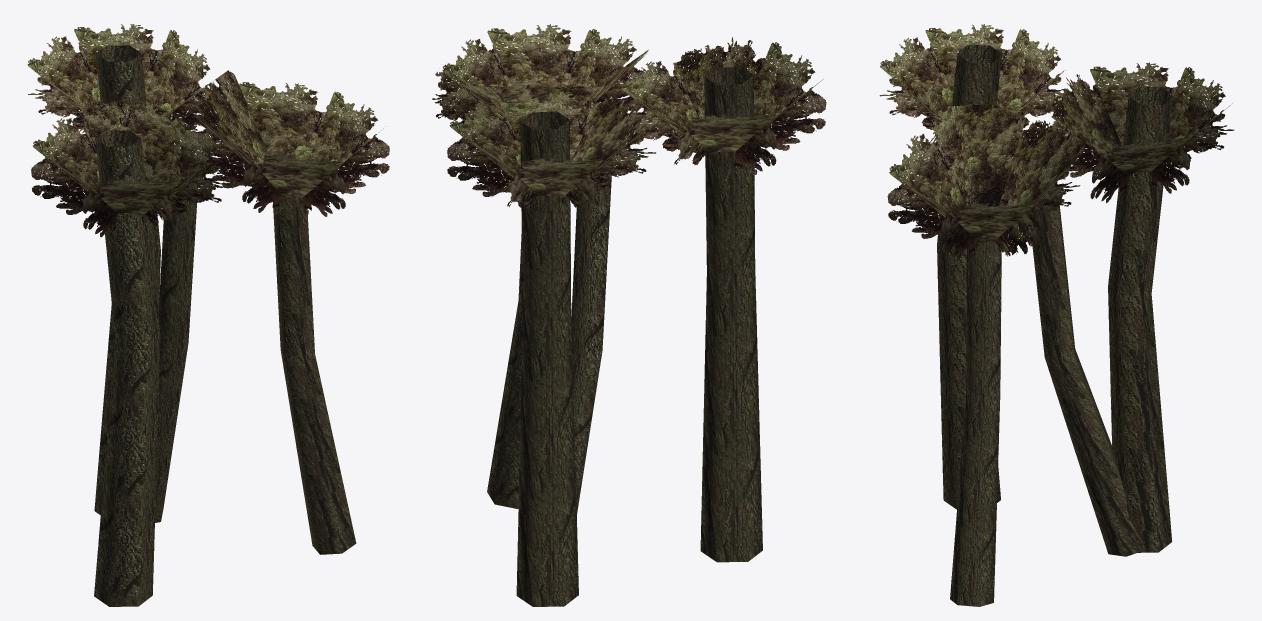
File: OW_FOREST_TREE_V5.glb
The picture shows the model from 3 angles, left to right: view 1: azimuth 30°, elevation 25°; view 2: azimuth 150°, elevation 25°; view 3: azimuth 270°, elevation 25°; orthographic projection. The views are drawn at different scales.
Parts seen in each view (by area): view 1: Mesh; view 2: Mesh; view 3: Mesh.
Part boxes in pixels (<box>): Mesh: <box>27,24,389,606</box>; Mesh: <box>432,24,826,606</box>; Mesh: <box>879,24,1234,606</box>.
Size of the model in its own units: 14.22 by 18.7 by 14.26.
2 materials, 2 textured.
